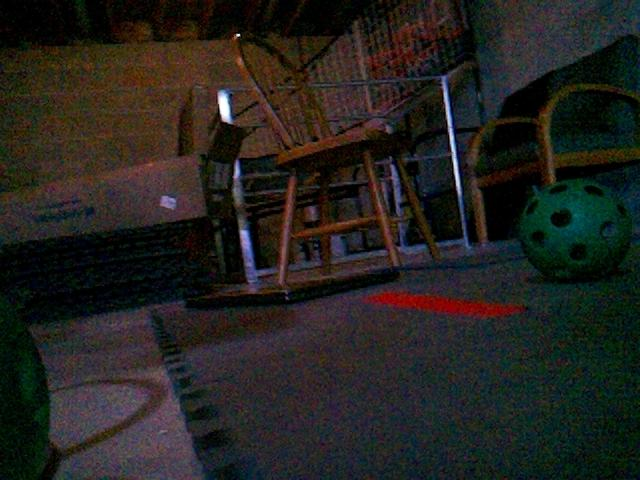Green: (519, 181, 631, 283), (0, 298, 51, 480)
